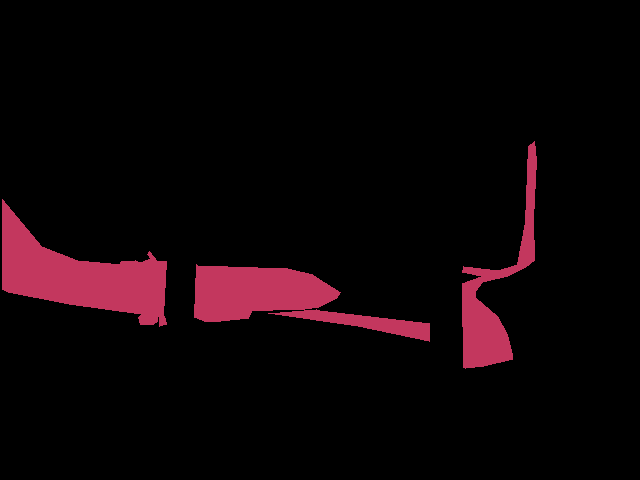Airplane: (268, 141, 537, 369), (2, 199, 340, 326)
